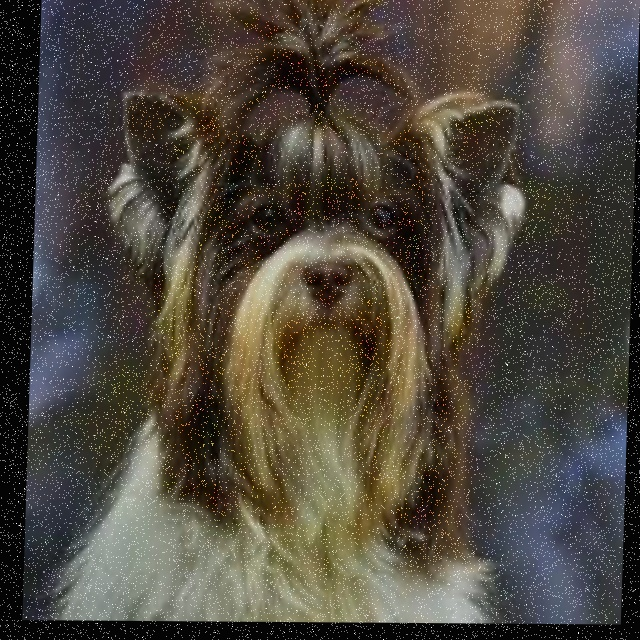dog: (87, 0, 572, 467)
